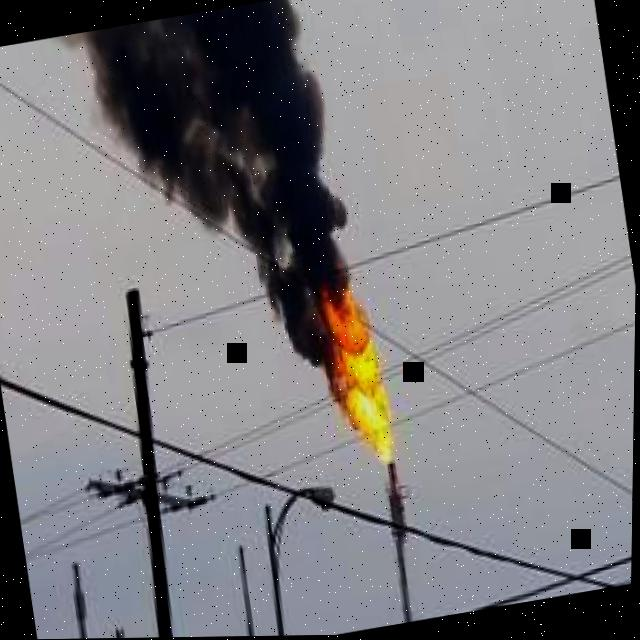fire: (323, 292, 394, 466)
smoke: (66, 0, 355, 408)
